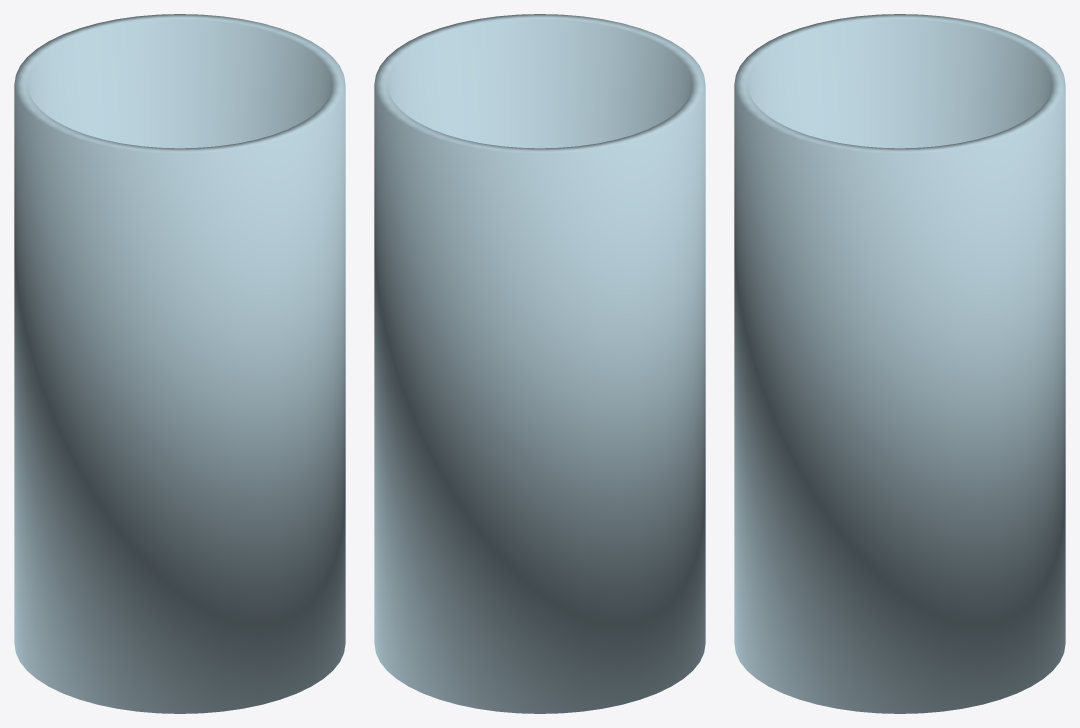
Rendered from florero_cristal_base.glb.
The picture shows the model from 3 angles, left to right: view 1: azimuth 30°, elevation 25°; view 2: azimuth 150°, elevation 25°; view 3: azimuth 270°, elevation 25°; orthographic projection.
Parts seen in each view (by area): view 1: florero_cristal_base; view 2: florero_cristal_base; view 3: florero_cristal_base.
Boxes of the visible parts, <box> form: florero_cristal_base: <box>14,14,345,713</box>; florero_cristal_base: <box>374,14,705,713</box>; florero_cristal_base: <box>734,14,1065,713</box>.
Bounding box in the file's own units: 0.15 × 0.28 × 0.15.
